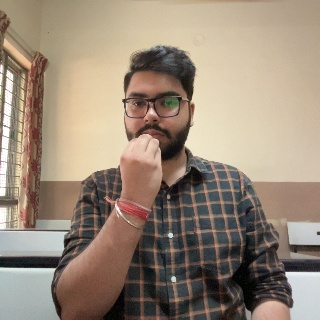Food: (117, 133, 165, 223)
